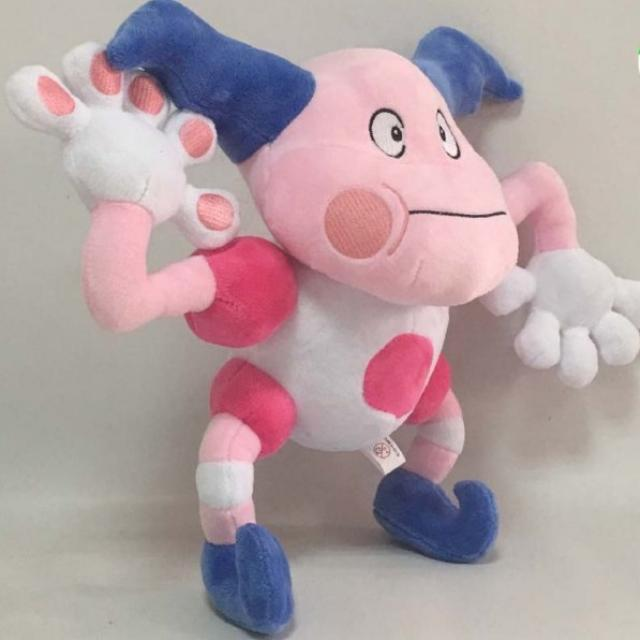MrMime: (154, 11, 529, 622)
